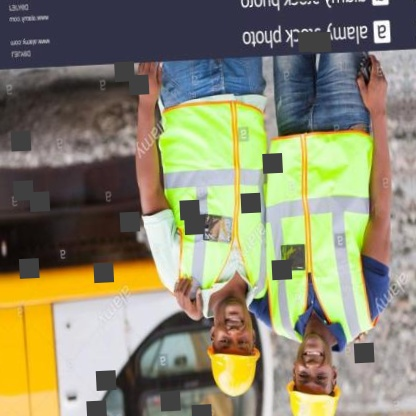vest: (259, 124, 394, 350), (151, 94, 277, 309)
yellow: (206, 342, 263, 403), (281, 369, 350, 416)
